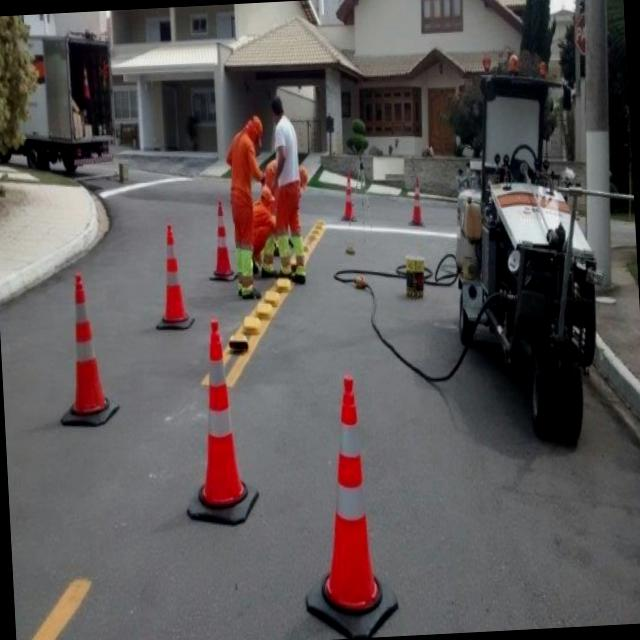cone: (307, 366, 406, 631), (182, 308, 259, 516), (57, 263, 115, 422), (148, 224, 196, 338), (400, 174, 430, 226), (338, 170, 360, 222)
